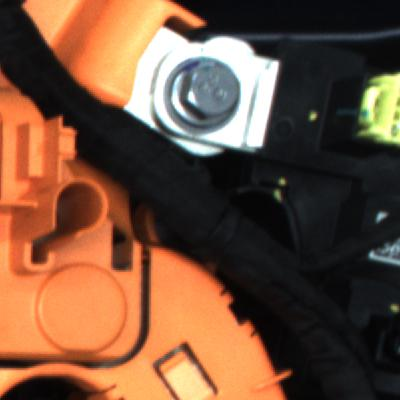nut_b: (168, 51, 270, 147)
